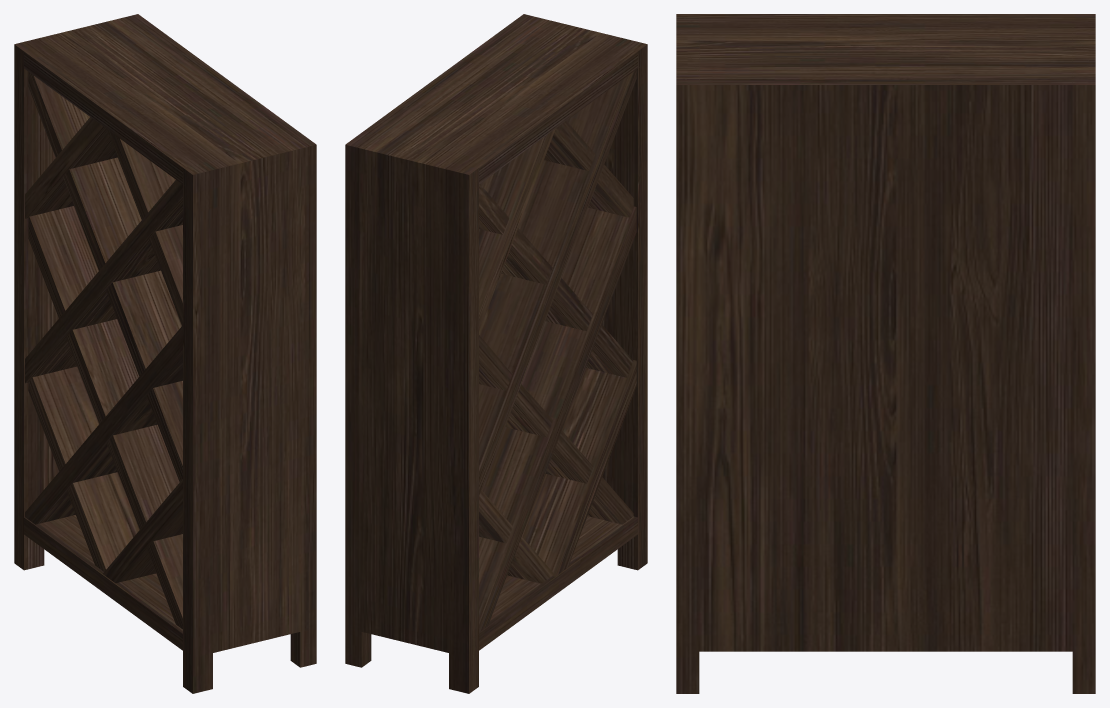
The model's file is F_Cabinet.fbx.
The picture shows the model from 3 angles, left to right: view 1: azimuth 30°, elevation 25°; view 2: azimuth 150°, elevation 25°; view 3: azimuth 270°, elevation 25°; orthographic projection. The views are drawn at different scales.
Parts seen in each view (by area): view 1: F_Cabinet; view 2: F_Cabinet; view 3: F_Cabinet.
Boxes of the visible parts, box(x1,y1,x2,y2) form: F_Cabinet: box(14, 14, 316, 693); F_Cabinet: box(345, 14, 647, 693); F_Cabinet: box(676, 14, 1095, 693).
Bounding box in the file's own units: 53.86 × 216 × 134.
1 material, 1 textured.
